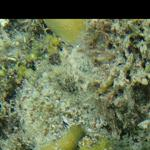dead: (1, 20, 146, 147)
